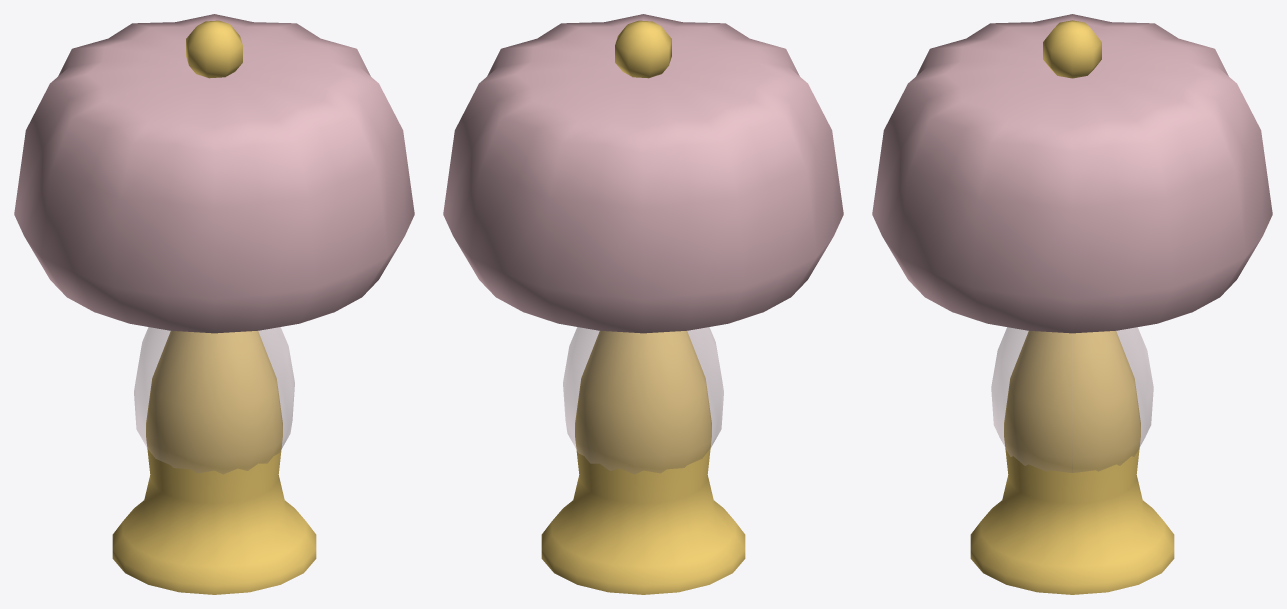
File: lamp_table_pink.glb
The picture shows the model from 3 angles, left to right: view 1: azimuth 30°, elevation 25°; view 2: azimuth 150°, elevation 25°; view 3: azimuth 270°, elevation 25°; orthographic projection.
Visible parts, largest first — view 1: lamp_table_pink; view 2: lamp_table_pink; view 3: lamp_table_pink.
Part boxes in pixels (x1,y1,x2,y2): lamp_table_pink: [14, 14, 414, 594]; lamp_table_pink: [443, 14, 843, 594]; lamp_table_pink: [872, 14, 1272, 594].
Size of the model in its own units: 0.3881 by 0.57 by 0.3881.
